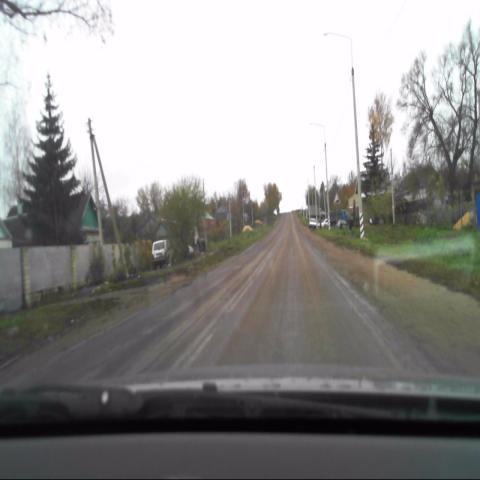1_14: (334, 191, 342, 203)
